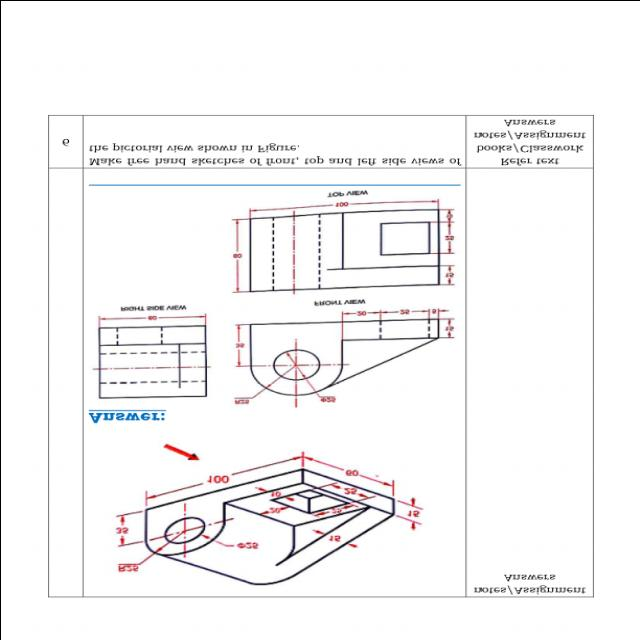Drawings: (96, 427, 457, 590), (228, 294, 466, 414), (216, 187, 464, 295), (89, 294, 217, 404)
